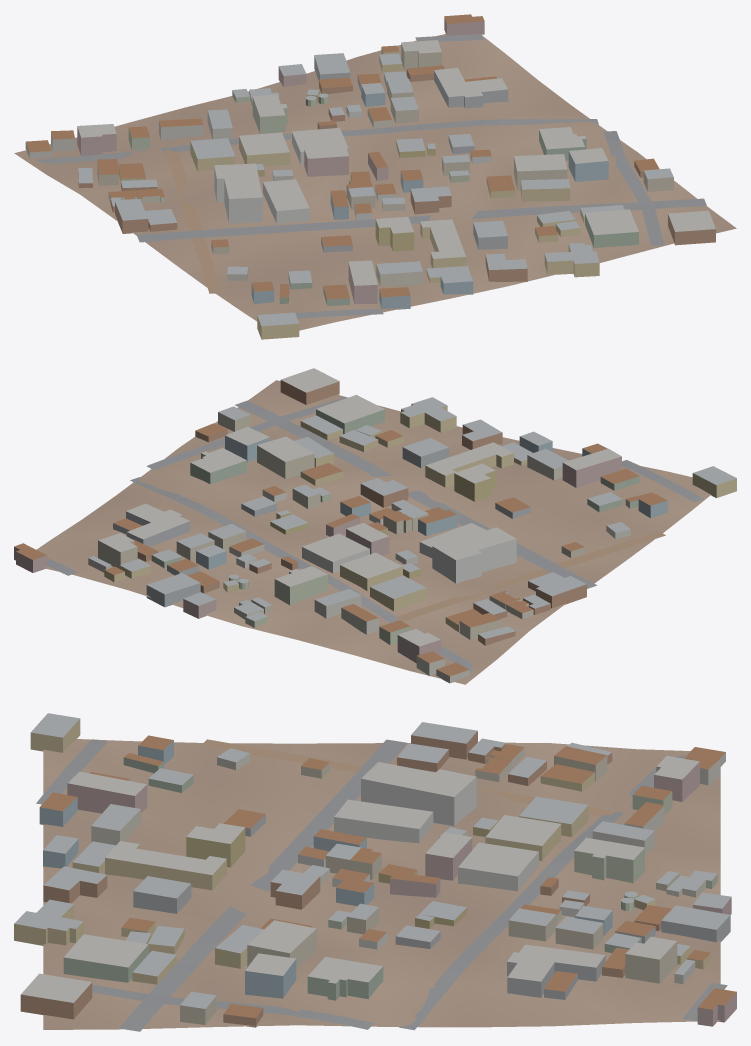
3 views of the same model, one above another, from view 1: azimuth 30°, elevation 25°; view 2: azimuth 150°, elevation 25°; view 3: azimuth 270°, elevation 25° (orthographic). The views are drawn at different scales.
Visible parts, largest first — view 1: Lo; view 2: Lo; view 3: Lo.
Boxes of the visible parts, bbox=[...] form: Lo: bbox=[14, 14, 736, 339]; Lo: bbox=[14, 368, 736, 684]; Lo: bbox=[14, 713, 736, 1031].
Size of the model in its own units: 269 by 17.89 by 273.
